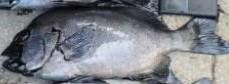fish: (0, 5, 228, 83)
